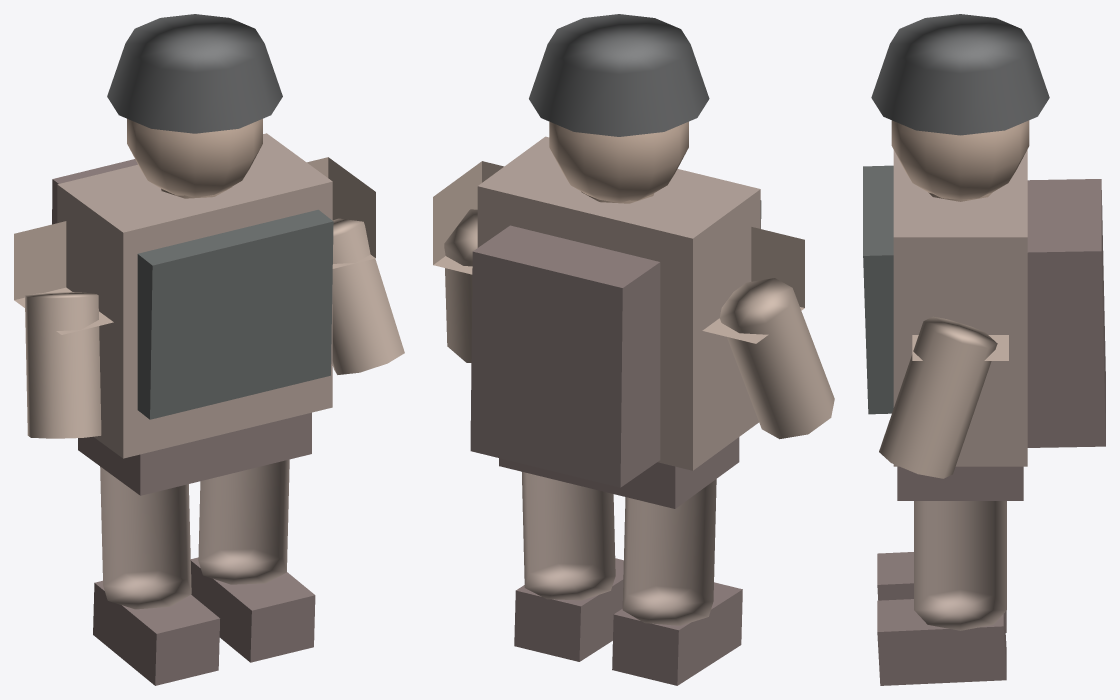
Rendered from character-enemy-lod1.glb.
The picture shows the model from 3 angles, left to right: view 1: azimuth 30°, elevation 25°; view 2: azimuth 150°, elevation 25°; view 3: azimuth 270°, elevation 25°; orthographic projection. The views are drawn at different scales.
Parts seen in each view (by area): view 1: character-lod1-uniform, character-lod1-armor, character-lod1-uniformDark, character-lod1-uniformLight, character-lod1-helmet, character-lod1-skin; view 2: character-lod1-uniformDark, character-lod1-uniform, character-lod1-uniformLight, character-lod1-helmet, character-lod1-skin; view 3: character-lod1-uniform, character-lod1-uniformDark, character-lod1-helmet, character-lod1-uniformLight, character-lod1-skin, character-lod1-armor.
Boxes of the visible parts, bbox=[...] form: character-lod1-uniform: bbox=[57, 133, 332, 609]; character-lod1-armor: bbox=[137, 209, 333, 419]; character-lod1-uniformDark: bbox=[52, 159, 315, 685]; character-lod1-uniformLight: bbox=[14, 157, 404, 438]; character-lod1-helmet: bbox=[107, 14, 282, 133]; character-lod1-skin: bbox=[127, 119, 262, 198]; character-lod1-uniformDark: bbox=[470, 225, 742, 685]; character-lod1-uniform: bbox=[477, 136, 760, 625]; character-lod1-uniformLight: bbox=[433, 161, 834, 439]; character-lod1-helmet: bbox=[529, 14, 709, 136]; character-lod1-skin: bbox=[549, 121, 688, 203]; character-lod1-uniform: bbox=[893, 149, 1027, 630]; character-lod1-uniformDark: bbox=[877, 179, 1105, 685]; character-lod1-helmet: bbox=[871, 14, 1049, 135]; character-lod1-uniformLight: bbox=[879, 316, 1008, 478]; character-lod1-skin: bbox=[891, 120, 1029, 201]; character-lod1-armor: bbox=[863, 165, 893, 414].
Bounding box in the file's own units: 1.17 × 1.79 × 0.6528.
